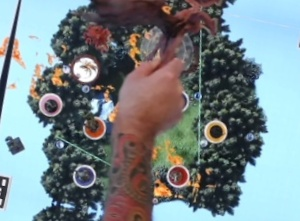orange: (78, 112, 108, 142)
pink: (35, 89, 64, 118)
red: (164, 160, 191, 190)
violet: (69, 159, 100, 190)
yellow: (203, 115, 232, 145)
